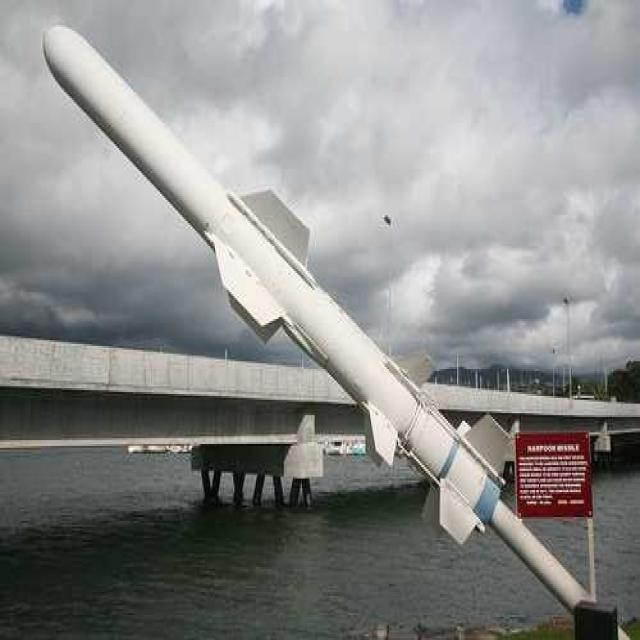missile: (45, 22, 514, 560)
